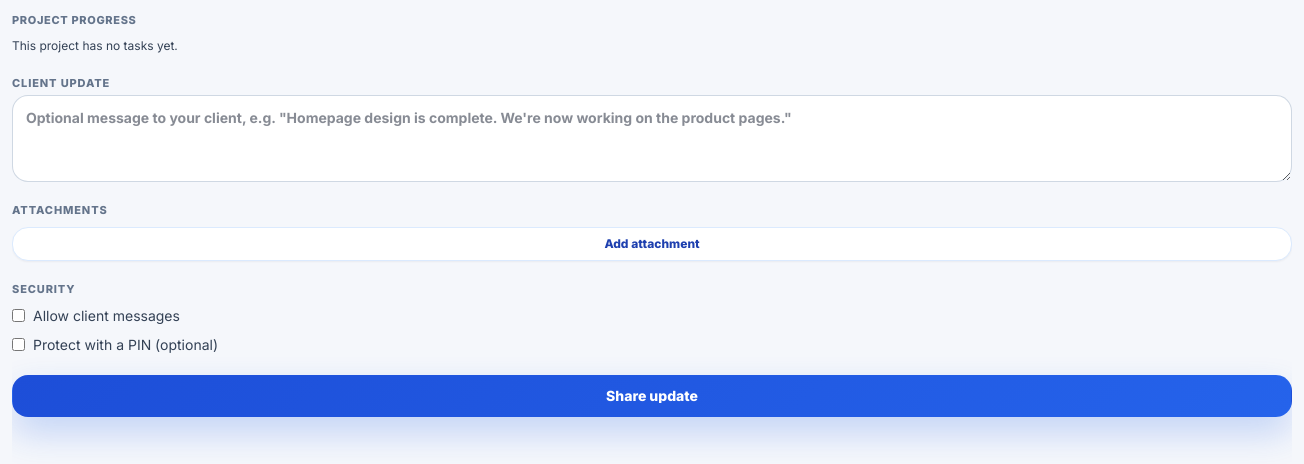
ShareLinkQuickShare - Attachments › offers shareable Resources and excludes Notes from the picker
Click the button "Add attachment".
click(652, 244)  # box [12,226,1292,260]
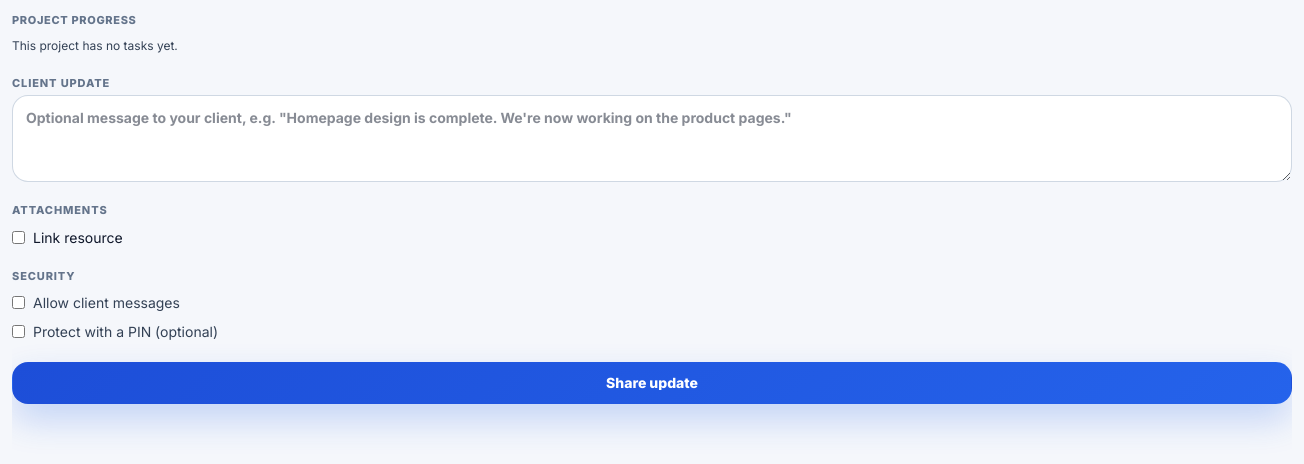
Expected: the text "Link resource" is shown, [33,226,123,248]
